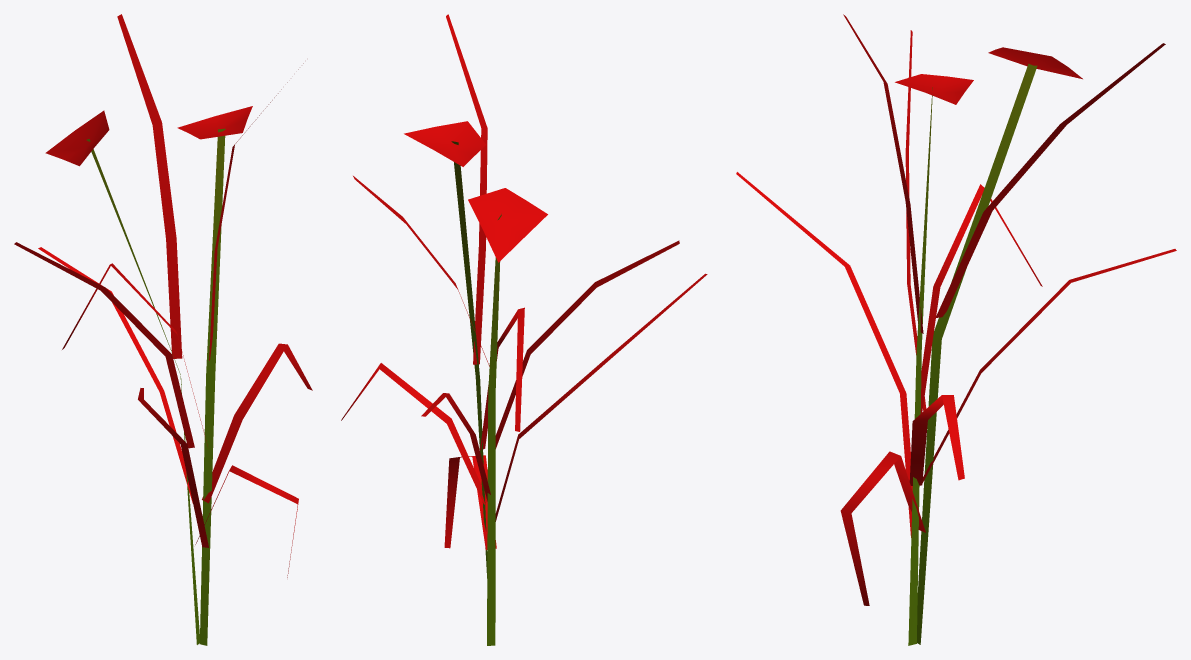
Rendered from vegetation_9.fbx.
3 renders of one model, left to right at view 1: azimuth 30°, elevation 25°; view 2: azimuth 150°, elevation 25°; view 3: azimuth 270°, elevation 25°, orthographic. The views are drawn at different scales.
Parts seen in each view (by area): view 1: _qnjj_Var15_; view 2: _qnjj_Var15_; view 3: _qnjj_Var15_.
Boxes of the visible parts, x1,y1,x2,y2 form: _qnjj_Var15_: [14, 14, 312, 645]; _qnjj_Var15_: [341, 14, 707, 645]; _qnjj_Var15_: [736, 14, 1176, 645].
Bounding box in the file's own units: 9.65 × 17.09 × 10.17.
